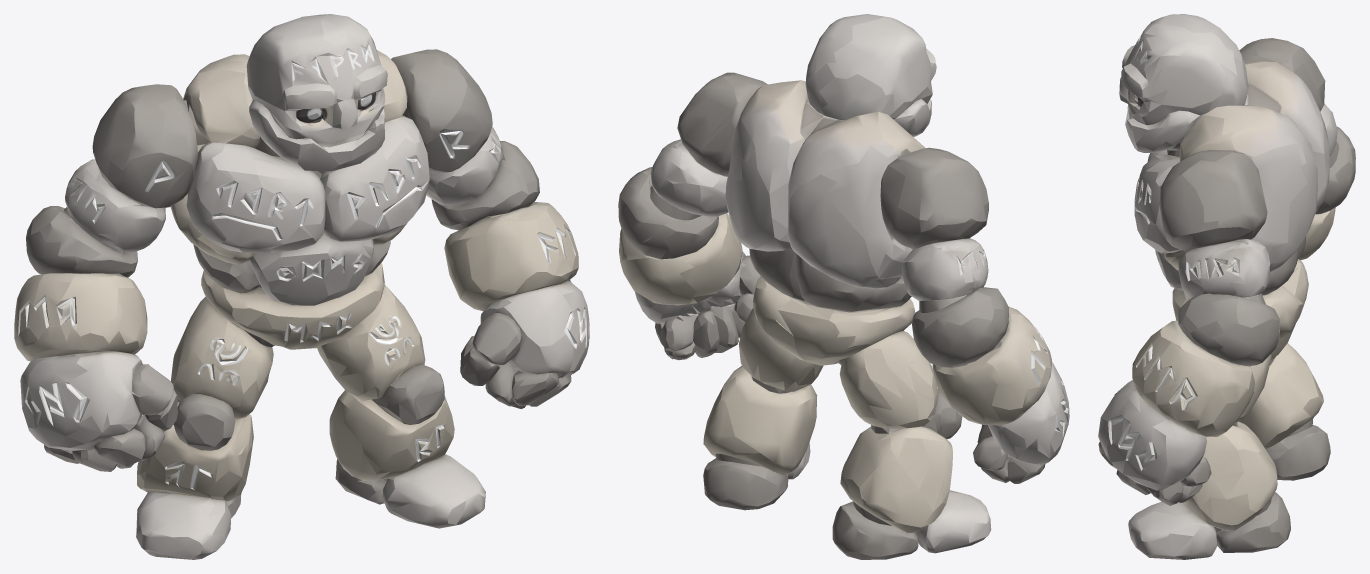
3 renders of one model, left to right at view 1: azimuth 30°, elevation 25°; view 2: azimuth 150°, elevation 25°; view 3: azimuth 270°, elevation 25°, orthographic. The views are drawn at different scales.
Size of the model in its own units: 1.9 by 1.84 by 0.9165.
Materials: 1 (1 with a texture image).
